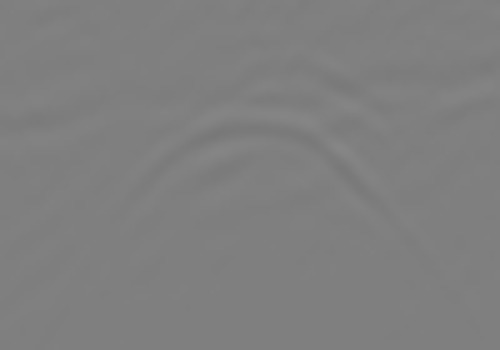hyperbola: (113, 107, 414, 258)
